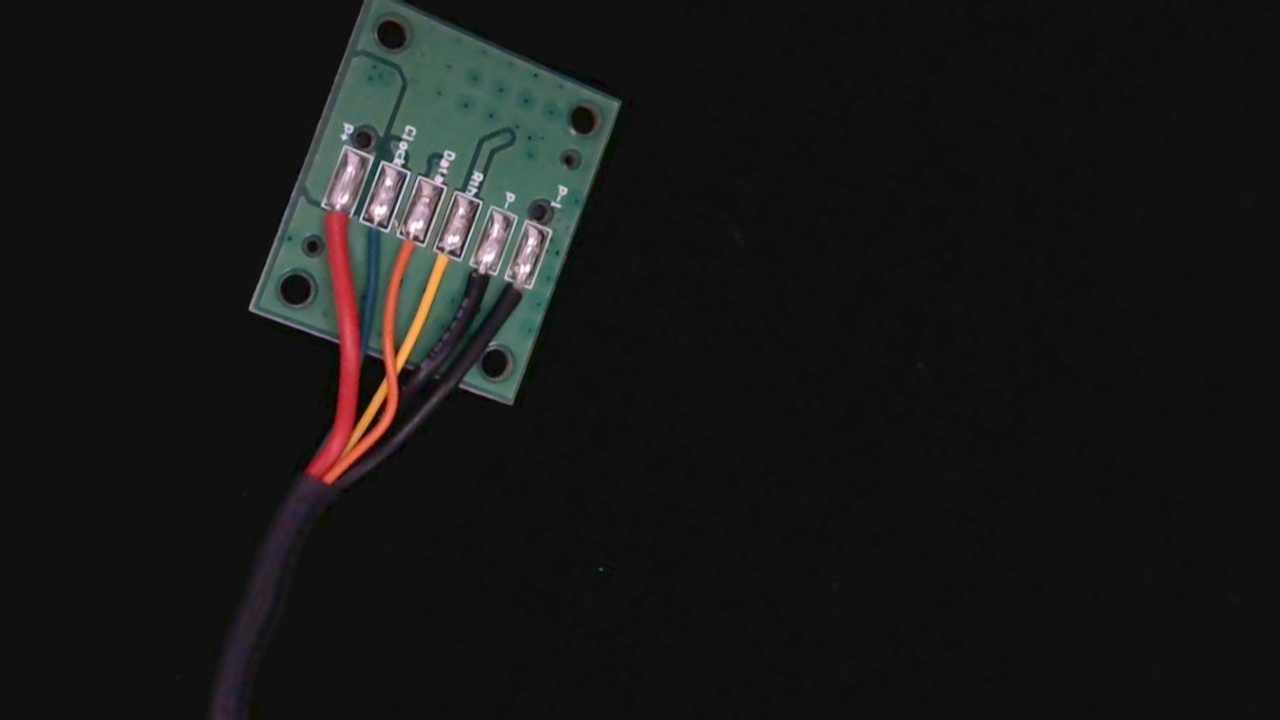Black: (447, 242, 504, 322)
Black1: (487, 260, 541, 335)
Green: (348, 198, 397, 265)
Orange: (379, 213, 434, 291)
Red: (306, 187, 356, 254)
Yellow: (413, 227, 470, 309)
